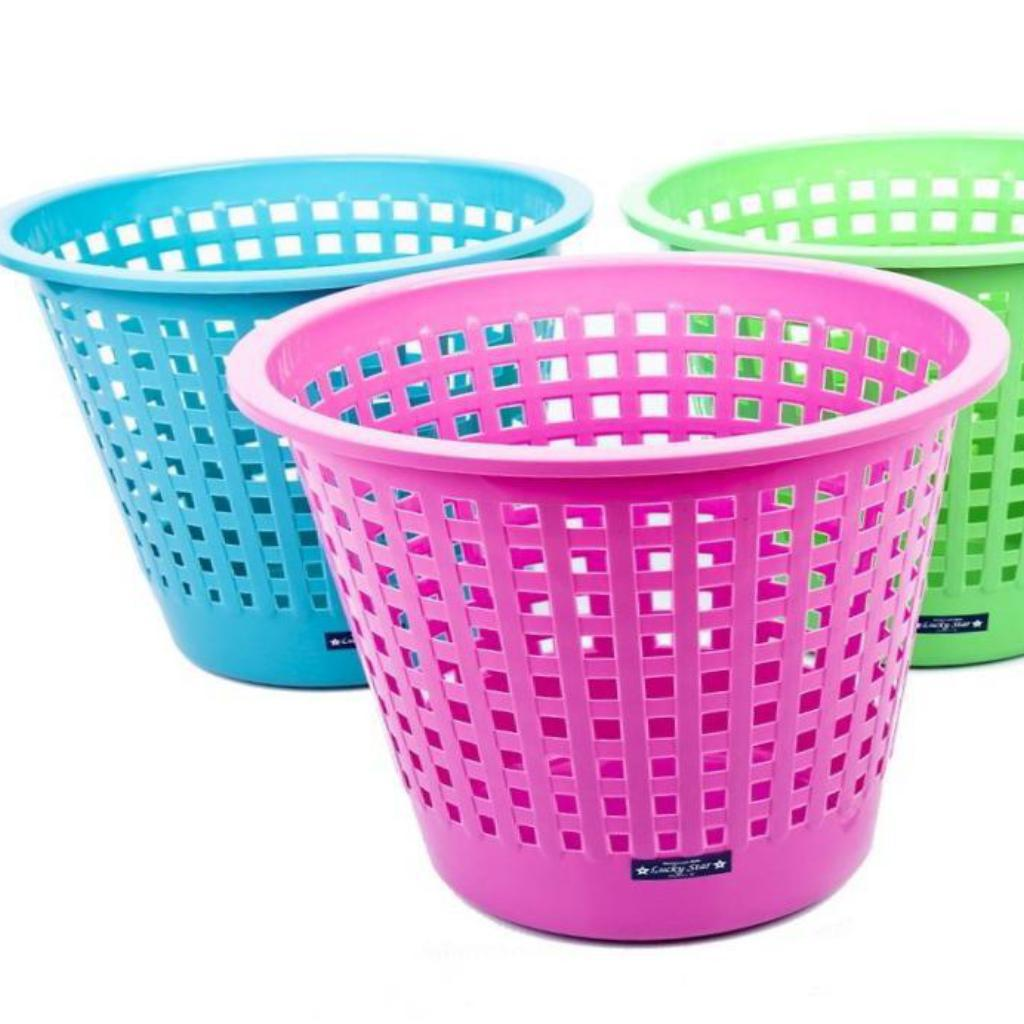Bote de Basura: (225, 240, 1024, 933), (0, 105, 577, 697), (610, 113, 1024, 662)
